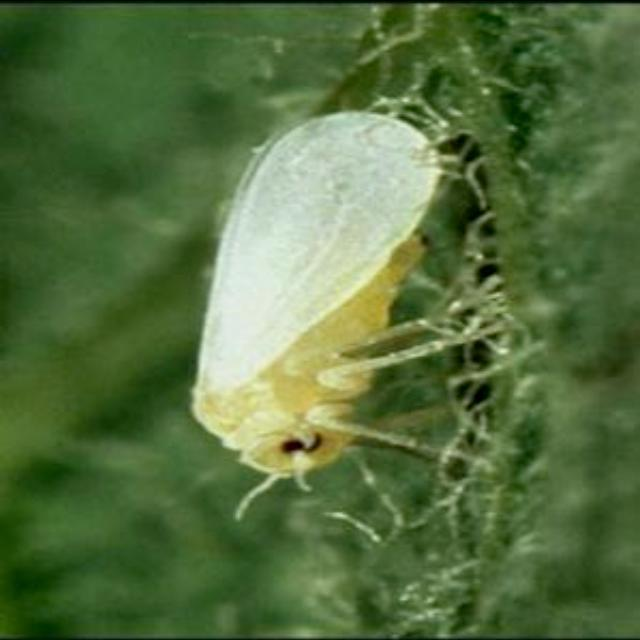Silverleaf whitefly: (185, 90, 483, 524)
